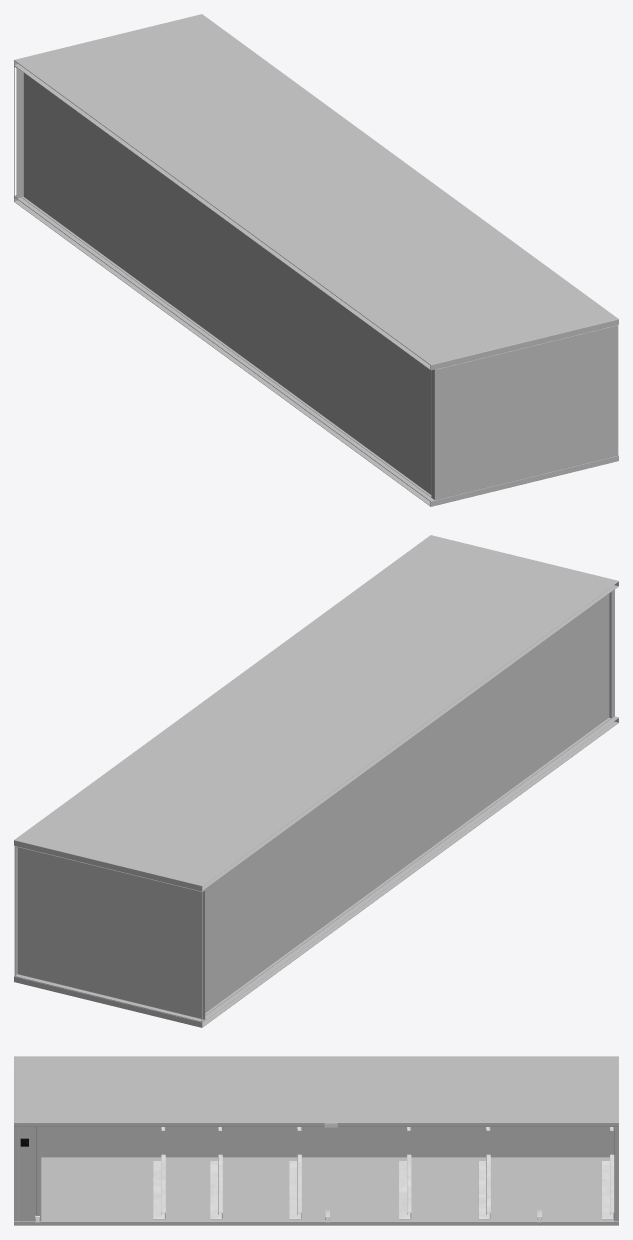
File: Kitchen02Base.obj
3 views of the same model, one above another, from view 1: azimuth 30°, elevation 25°; view 2: azimuth 150°, elevation 25°; view 3: azimuth 270°, elevation 25° (orthographic). The views are drawn at different scales.
Parts seen in each view (by area): view 1: Kitchen02Base; view 2: Kitchen02Base; view 3: Kitchen02Base.
Boxes of the visible parts, x1,y1,x2,y2 form: Kitchen02Base: [14, 14, 618, 506]; Kitchen02Base: [14, 535, 618, 1027]; Kitchen02Base: [14, 1056, 618, 1225].
Size of the model in its own units: 0.5667 by 0.4 by 2.13.
3 materials, 1 textured.
